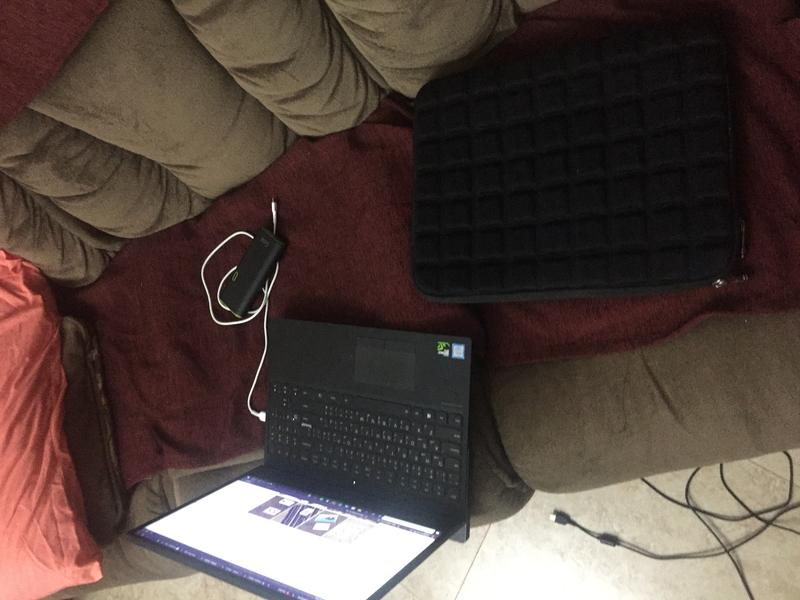cover: (392, 21, 762, 304)
